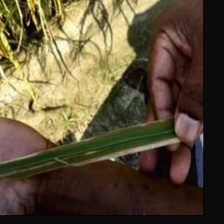Leaf_Blast: (54, 128, 186, 175)
